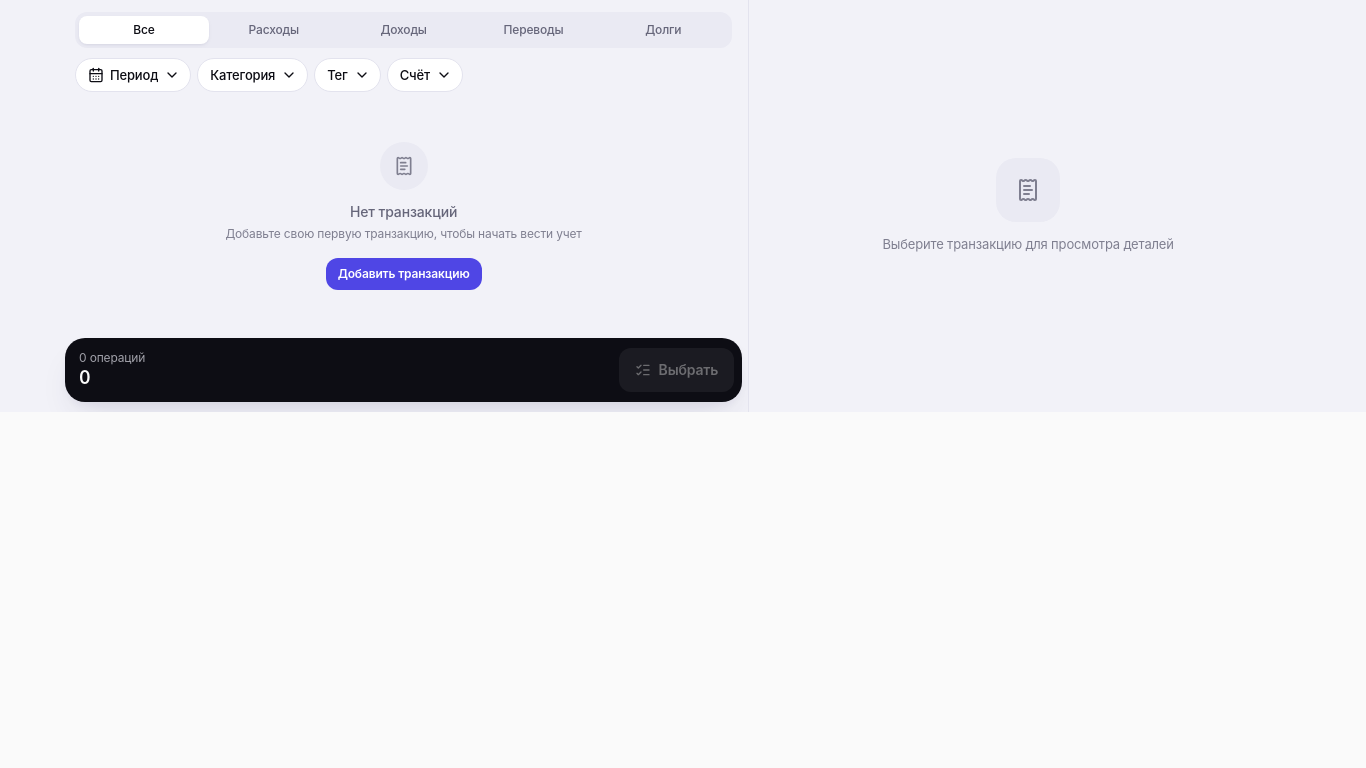
Test: HistoryPage › facet chips › categories › multi-select sends the list and labels the chip "Первая +N"
Click the button with test id "facet-chip-category" at (253, 75), box [198, 59, 307, 91]
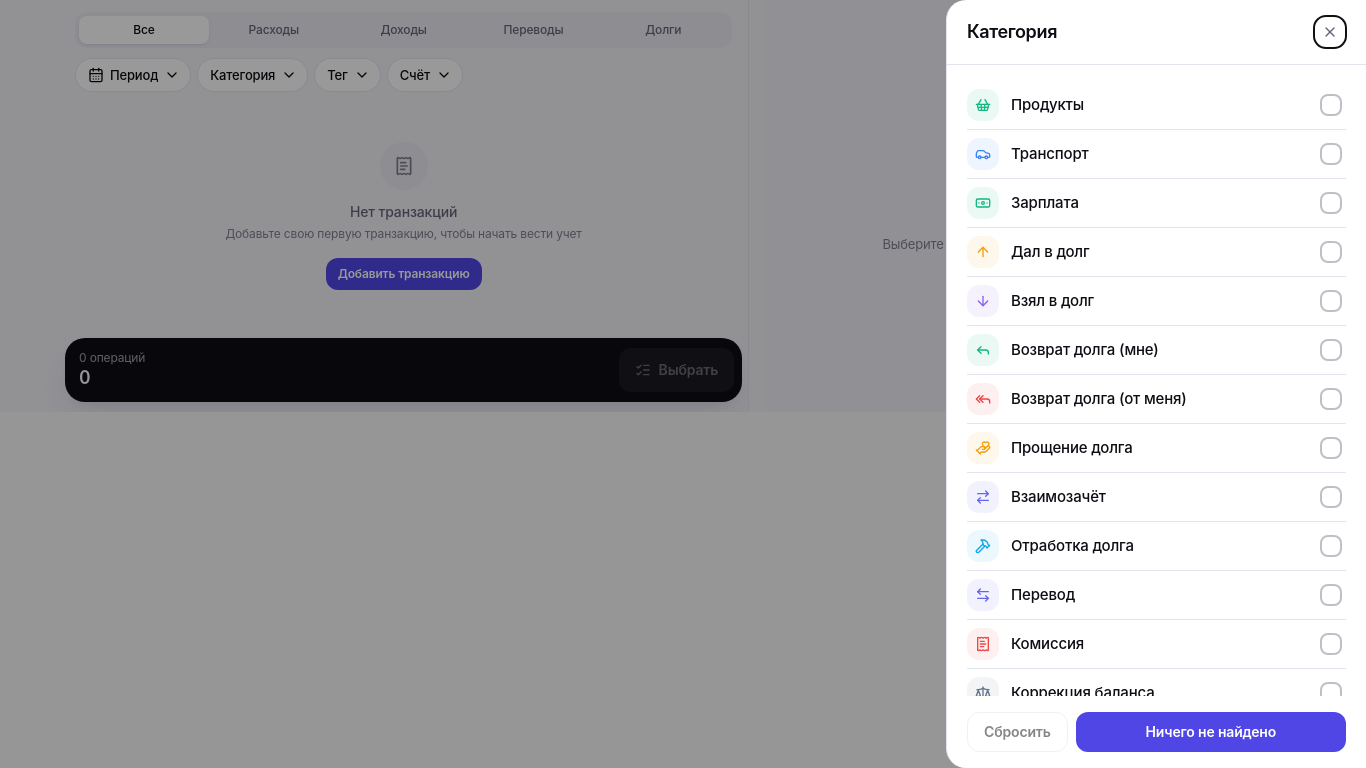
Click the checkbox labelled "Продукты" at (983, 105), box [967, 81, 1346, 130]
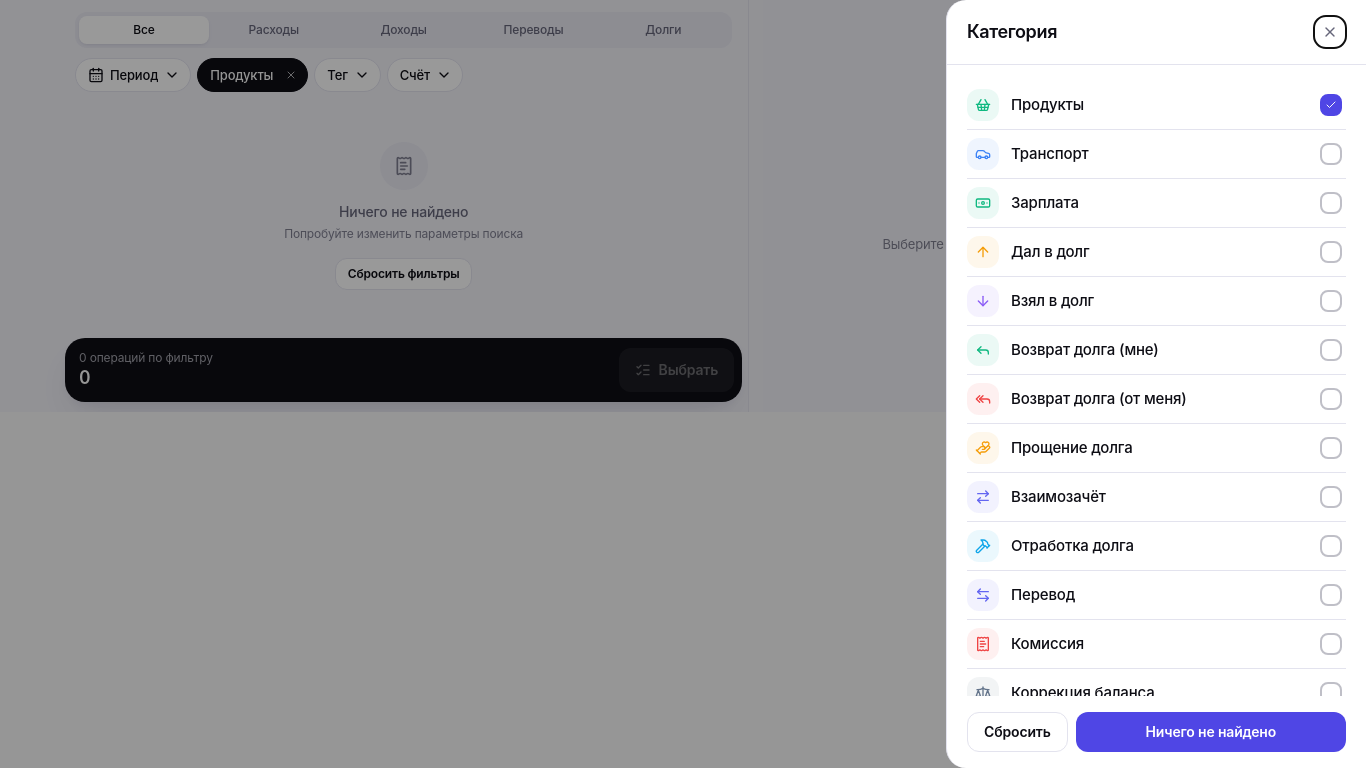
Click the checkbox labelled "Транспорт" at (983, 154), box [967, 130, 1346, 179]
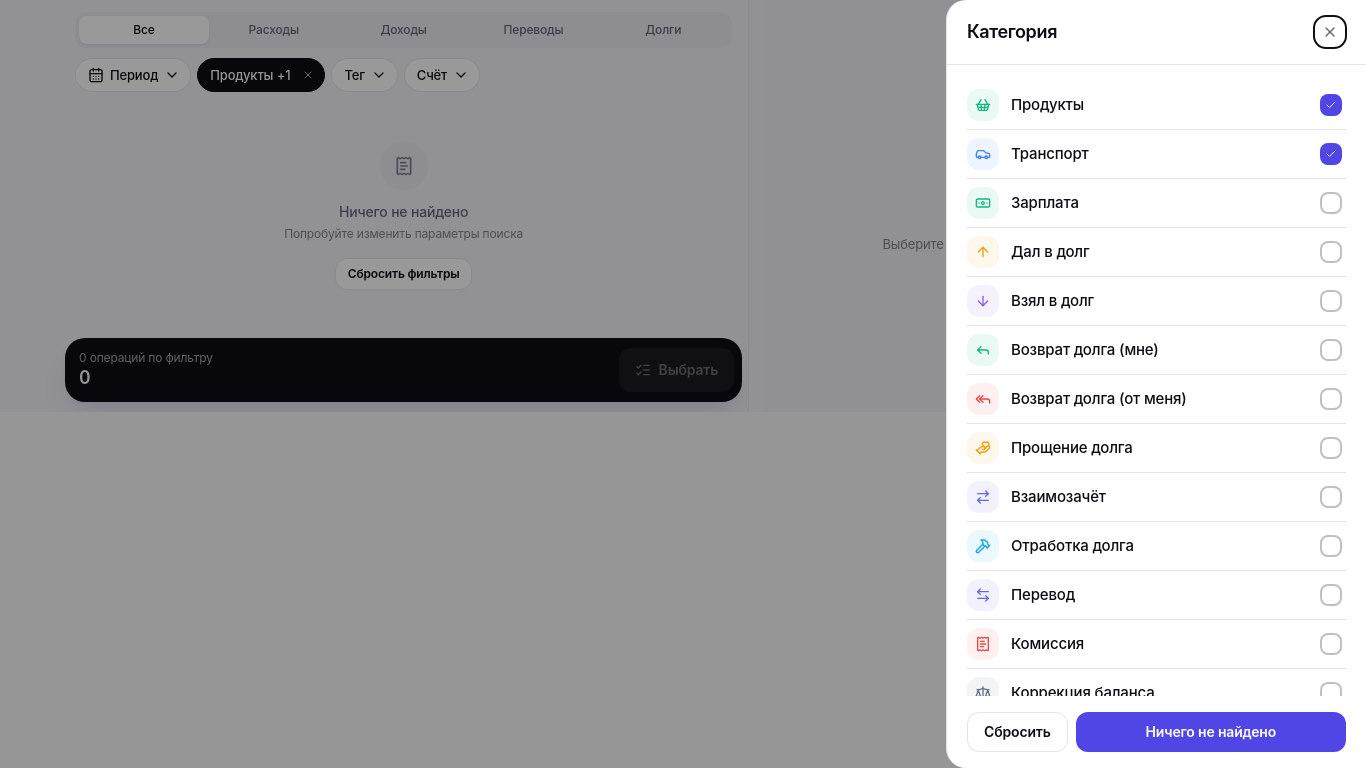
Now the element with test id "history-facet-rail" shows "Продукты +1", box [198, 59, 294, 91]
